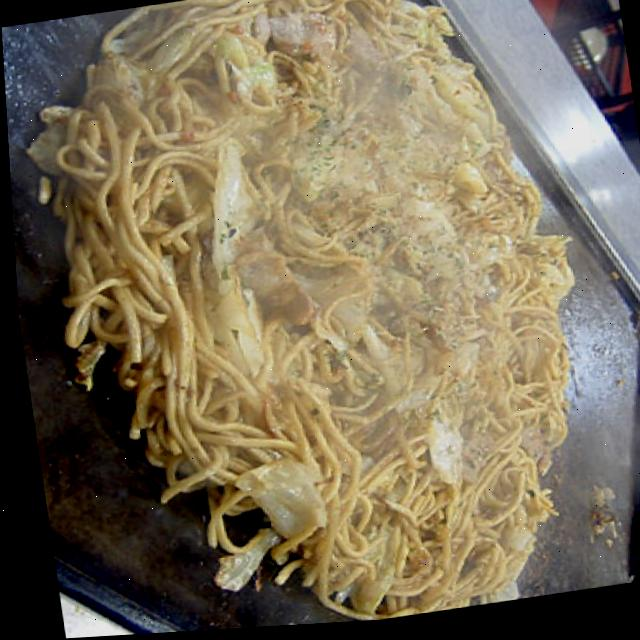面条主食: (37, 0, 609, 638)
